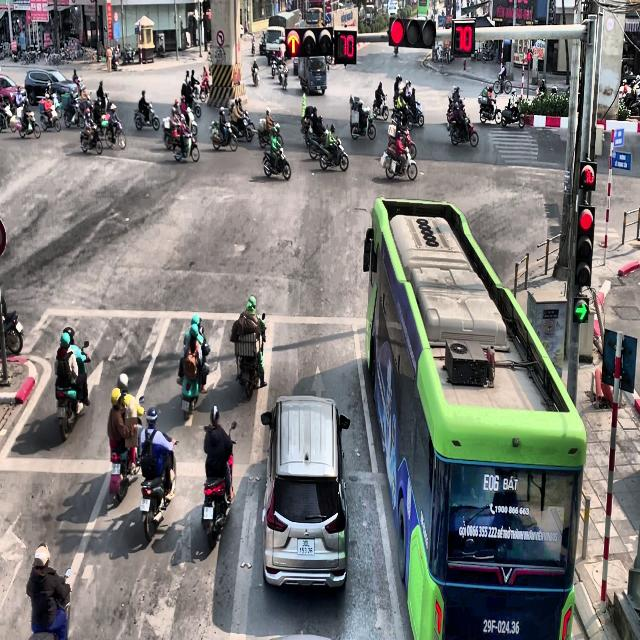BUS: (362, 197, 586, 639)
CAR: (260, 395, 350, 590), (24, 69, 79, 105), (0, 74, 25, 108)
MOTORBIKE: (202, 422, 236, 549), (140, 436, 178, 542), (56, 342, 90, 441), (29, 568, 71, 640), (109, 422, 143, 502), (235, 312, 266, 398), (180, 342, 210, 420), (0, 296, 23, 354), (383, 142, 417, 180), (262, 136, 291, 180), (448, 113, 479, 147), (319, 138, 349, 172), (10, 109, 40, 139), (209, 119, 237, 151), (173, 129, 199, 163), (350, 110, 376, 140), (229, 111, 254, 142), (38, 99, 61, 132), (134, 102, 160, 130), (258, 120, 283, 148), (478, 94, 501, 124), (80, 123, 102, 154), (105, 118, 126, 150), (64, 98, 85, 128), (391, 105, 413, 133), (406, 99, 424, 126), (185, 91, 201, 118), (493, 72, 512, 94), (372, 94, 388, 120), (193, 80, 208, 102), (278, 64, 288, 90), (251, 65, 259, 86), (270, 56, 277, 78)
TRAFFIC_LIGHT: (574, 204, 594, 288), (388, 17, 436, 48), (286, 26, 334, 57), (334, 29, 357, 64), (579, 161, 597, 190)
